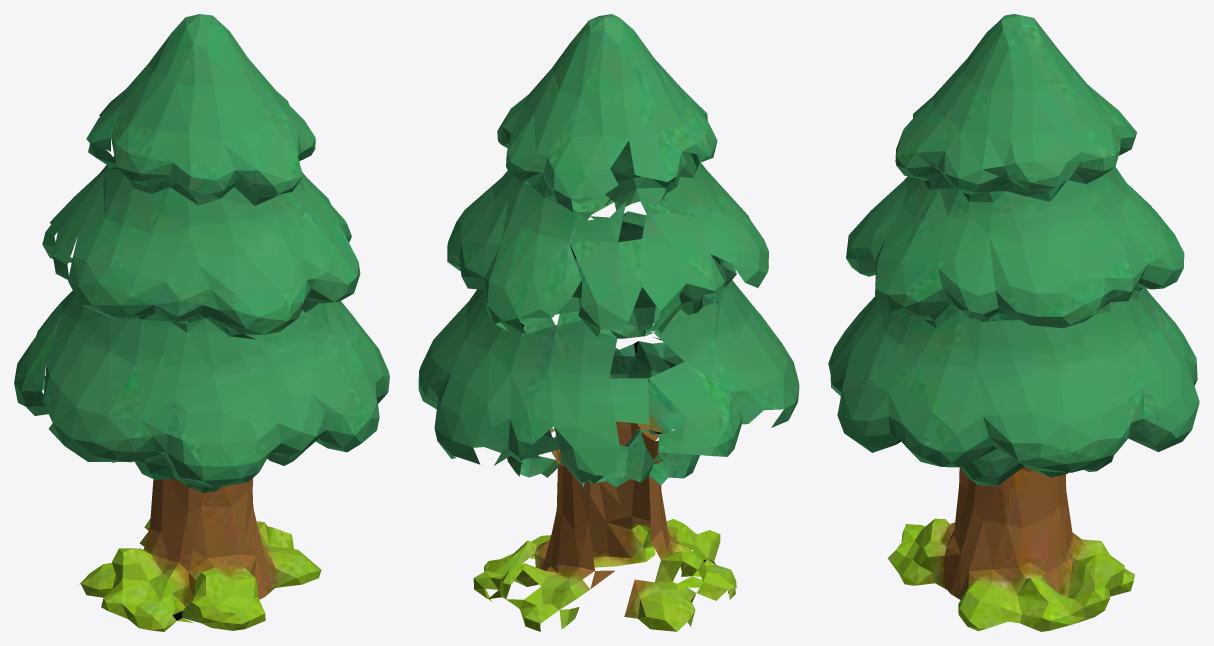
Rendered from M-6_03_pine.glb.
The picture shows the model from 3 angles, left to right: view 1: azimuth 30°, elevation 25°; view 2: azimuth 150°, elevation 25°; view 3: azimuth 270°, elevation 25°; orthographic projection.
Visible parts, largest first — view 1: loA; view 2: loA; view 3: loA.
Boxes of the visible parts, x1=… form: loA: x1=14, y1=14, x2=389, y2=631; loA: x1=418, y1=14, x2=799, y2=631; loA: x1=828, y1=14, x2=1199, y2=631.
Size of the model in its own units: 4.7 by 7.99 by 4.71.
Materials: 1 (1 with a texture image).
